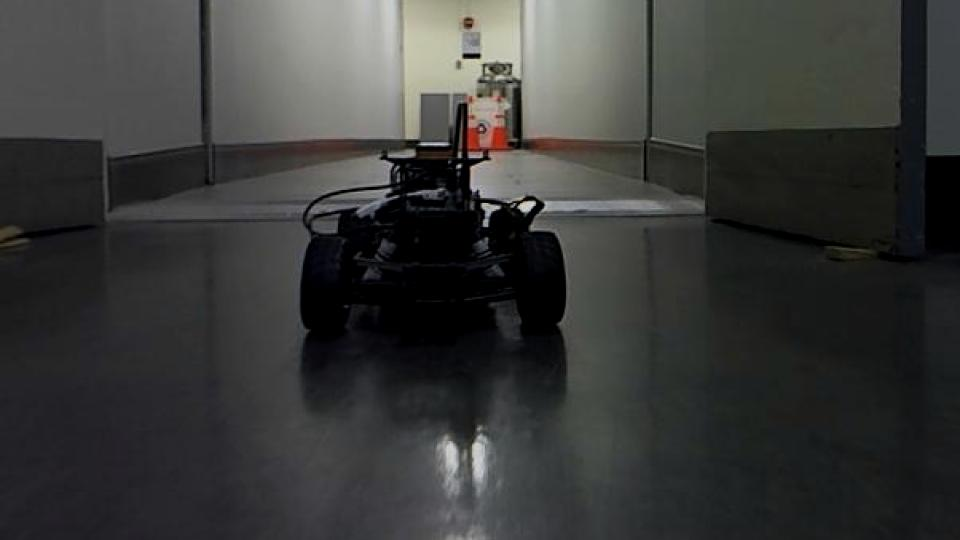car: (297, 99, 571, 337)
